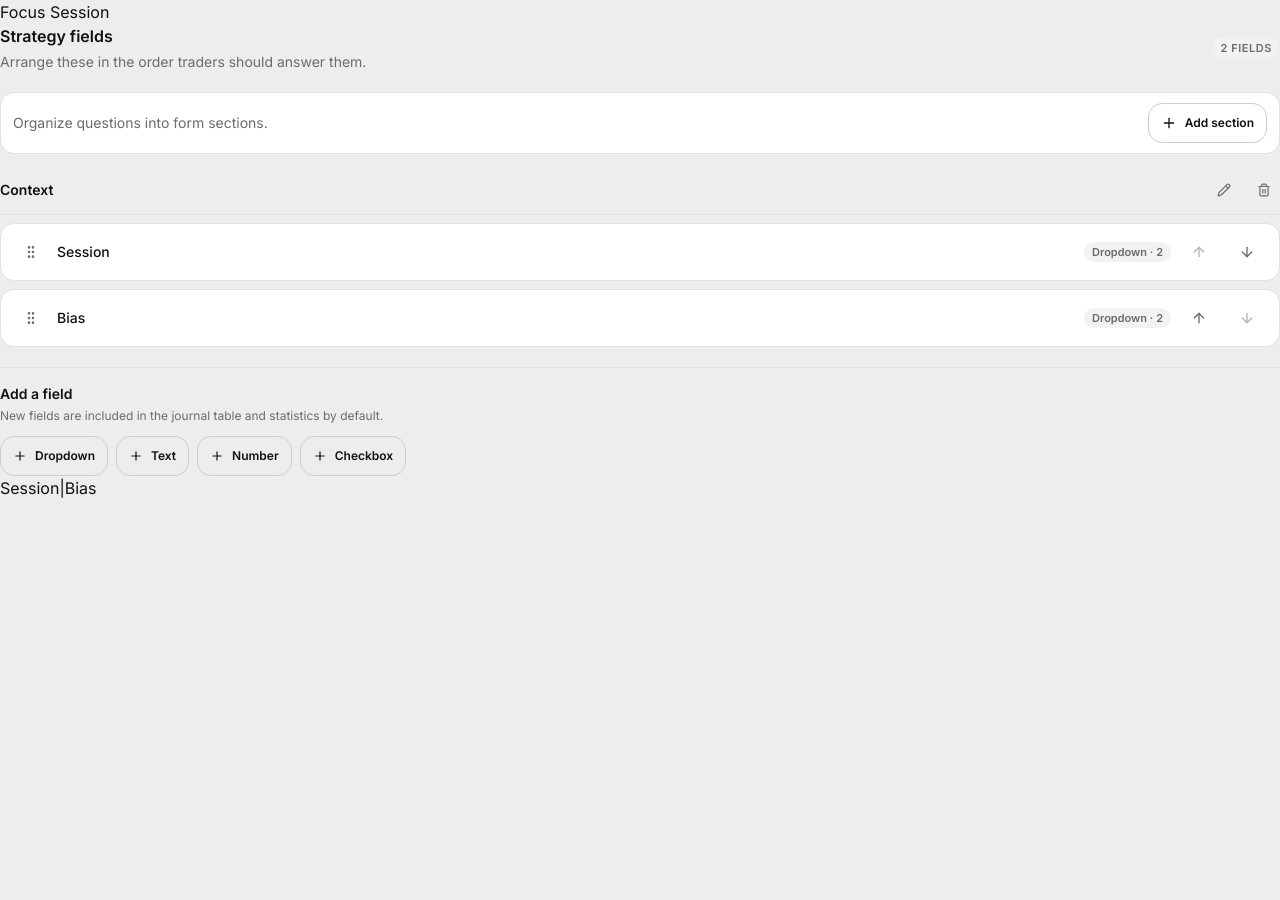
Scenario: TemplateFieldEditorList › confirms before deleting a section and its fields
Click the button named "Delete Context section" at (1264, 190), box [1248,174,1279,206]
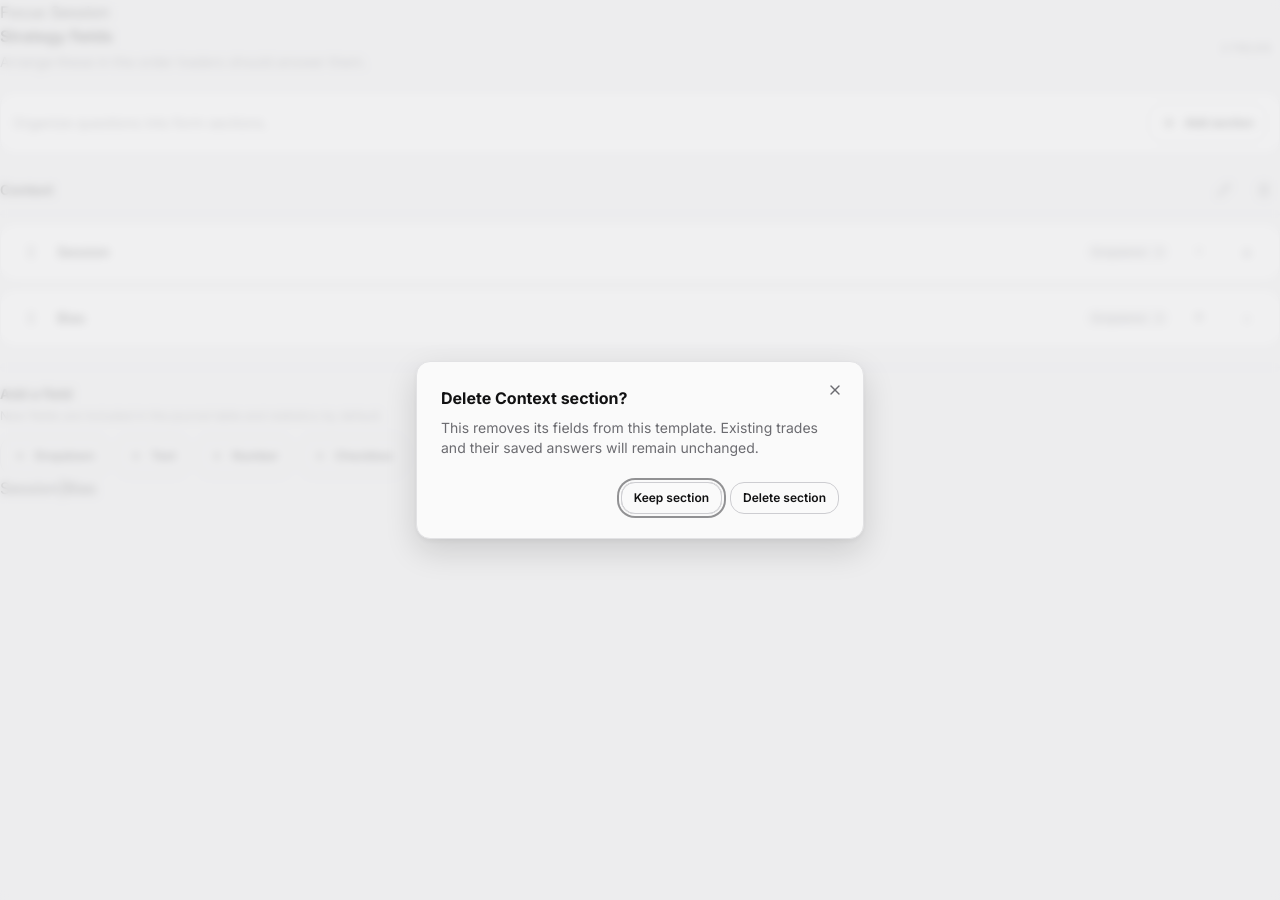
Now the dialog shows "Existing trades and their saved answers will remain unchanged.", box [441,419,818,456]
Click the button "Delete section" at (784, 498), box [730,482,839,514]
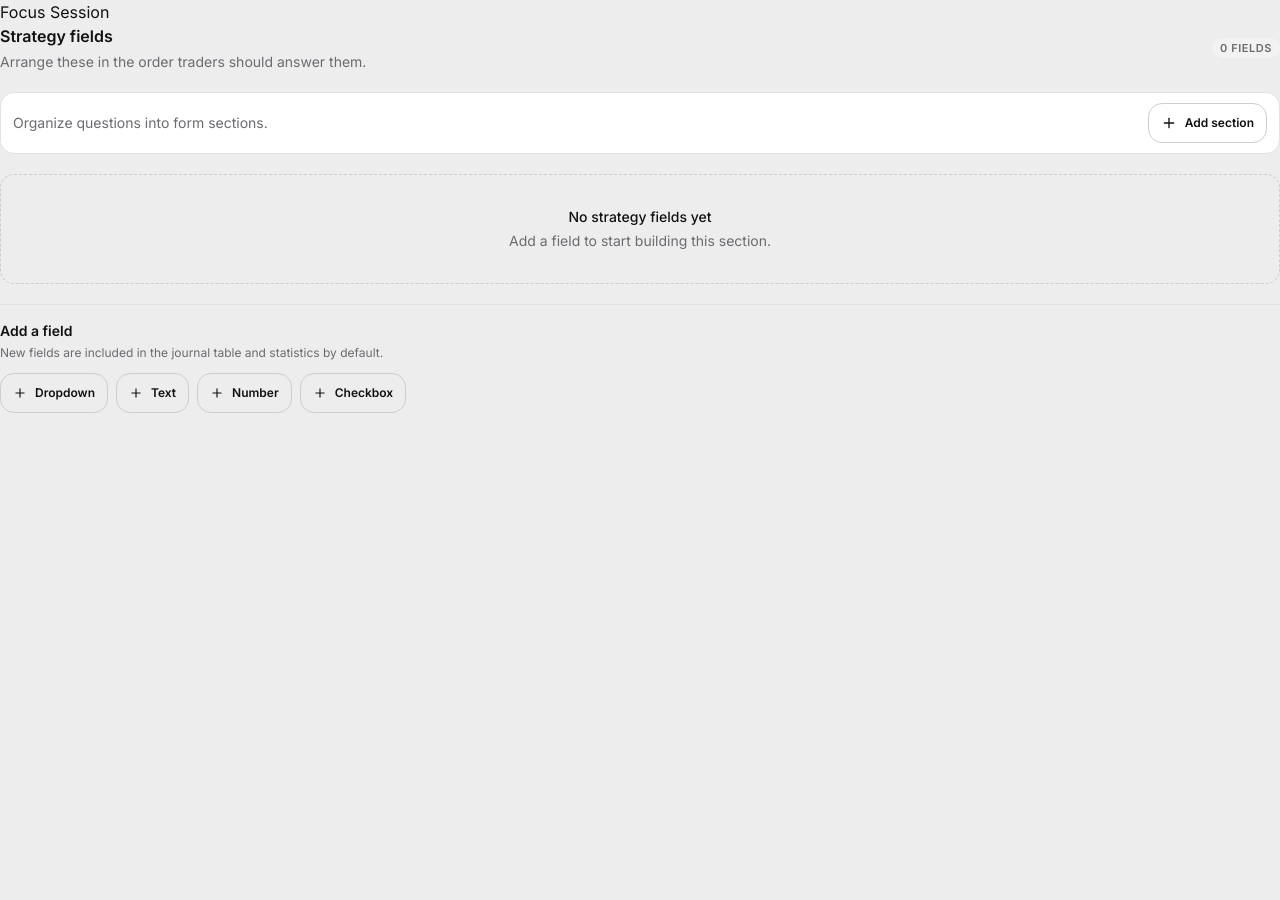
Now the button "Bias" is gone
